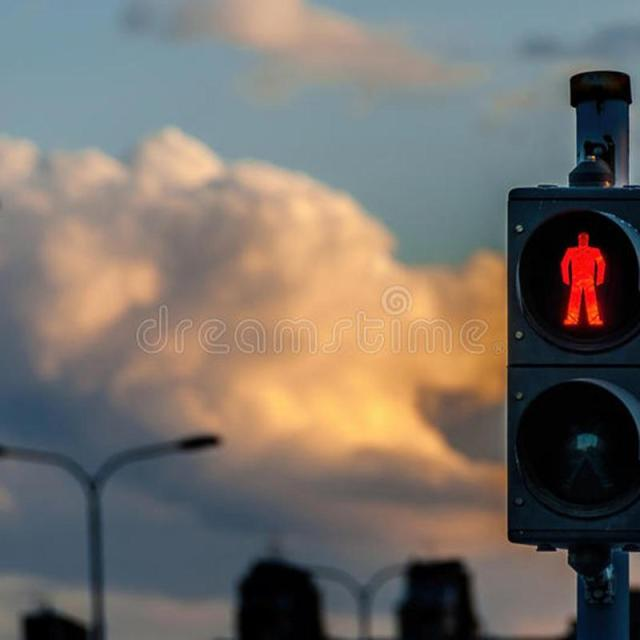red_light: (514, 203, 634, 353)
